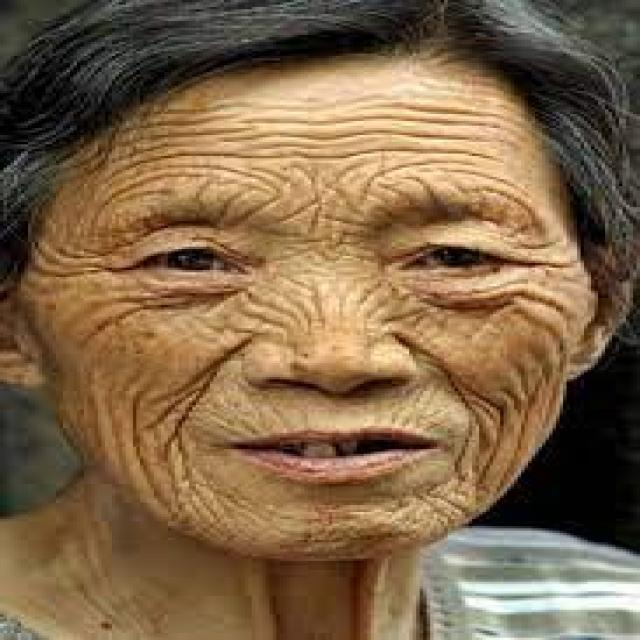Wrinkles: (33, 266, 334, 532), (68, 95, 553, 239), (346, 265, 581, 540), (516, 227, 585, 278), (33, 233, 120, 272)
